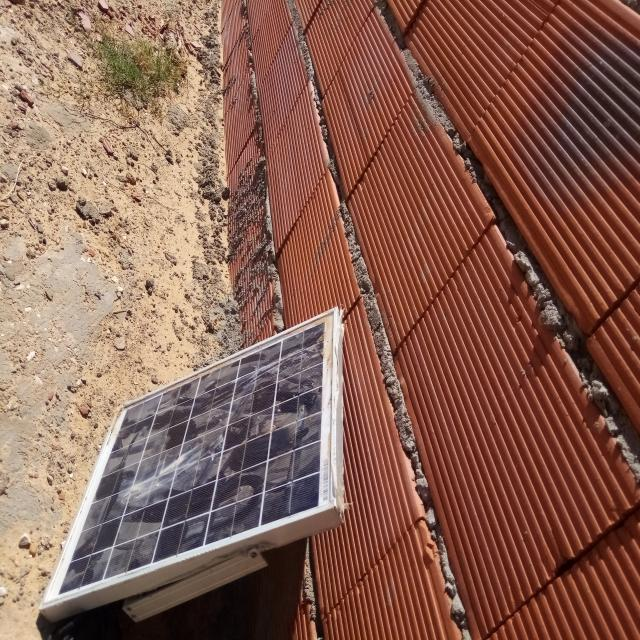faulty: (42, 309, 337, 605)
